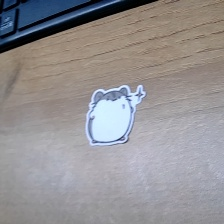mouse: (82, 82, 148, 148)
